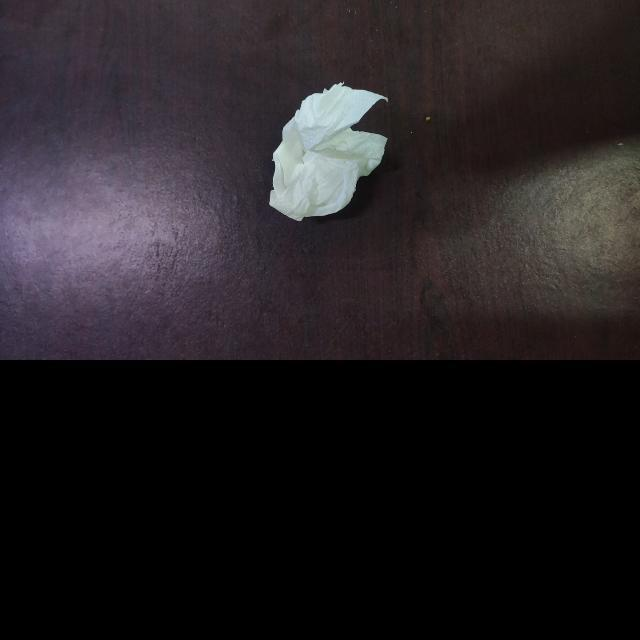kitchen paper: (267, 78, 395, 228)
